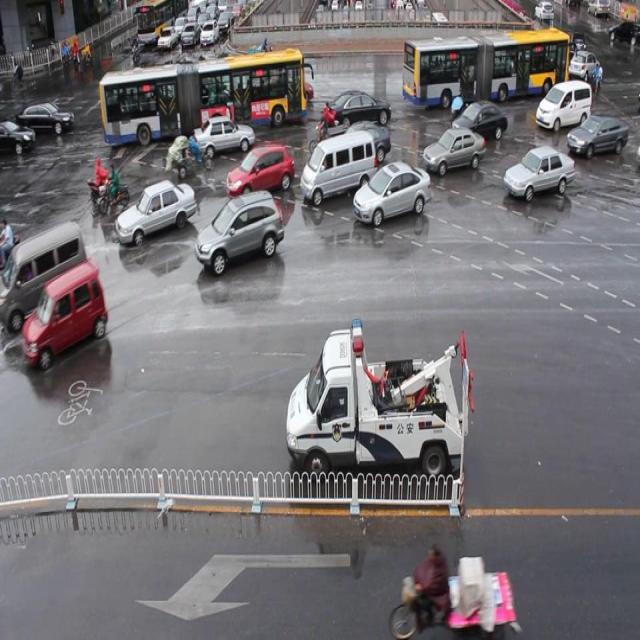bus: (286, 318, 473, 484)
car: (24, 260, 107, 371), (196, 196, 283, 270), (117, 182, 195, 245), (352, 162, 429, 222), (503, 149, 574, 201), (228, 143, 293, 194), (422, 127, 484, 175), (193, 114, 254, 160), (534, 81, 589, 132), (566, 117, 627, 159), (324, 90, 392, 127), (331, 124, 391, 165), (452, 100, 507, 144), (257, 64, 313, 105), (505, 48, 548, 80)
truck: (1, 224, 89, 334), (300, 134, 376, 201)
van: (99, 49, 304, 144), (402, 31, 569, 108)
